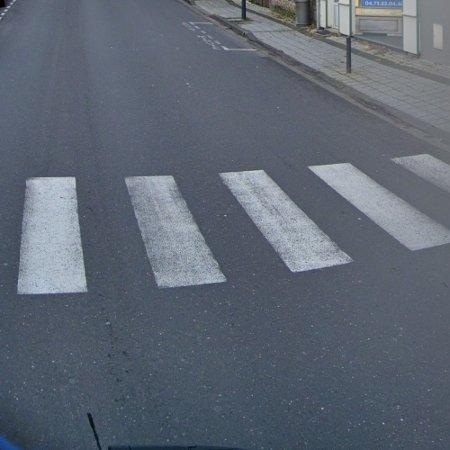crosswalks: (0, 154, 450, 297)
